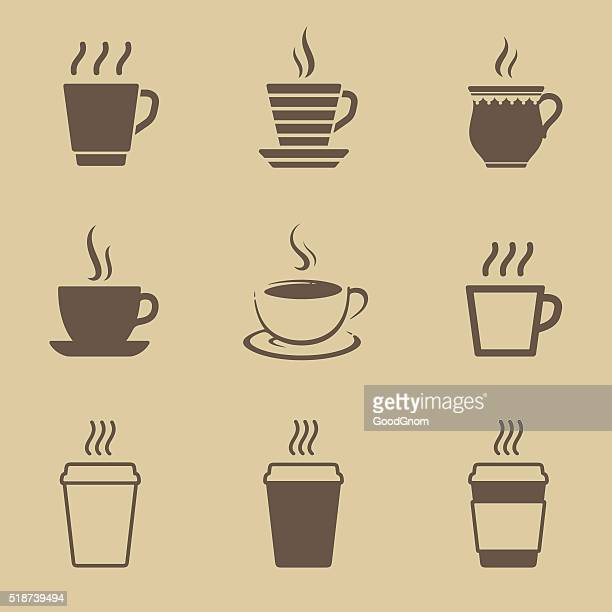cup: (238, 223, 372, 361), (49, 214, 163, 369), (259, 24, 364, 175), (59, 23, 164, 171), (58, 407, 149, 574), (258, 408, 350, 572)
